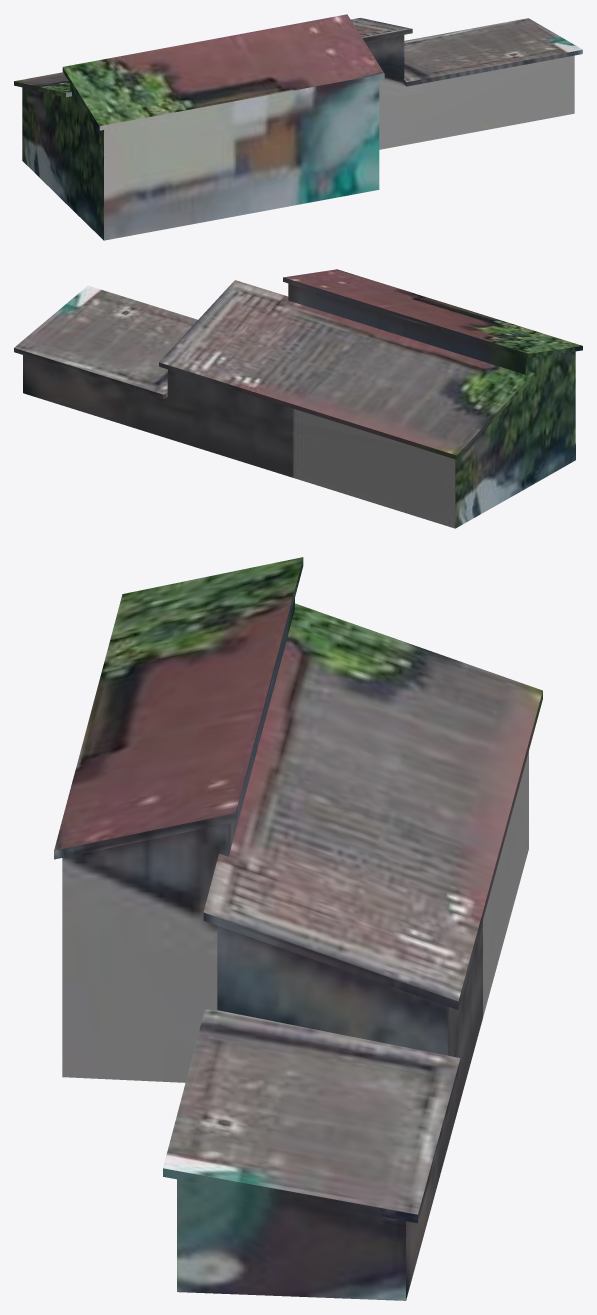
3 views of the same model, one above another, from view 1: azimuth 30°, elevation 25°; view 2: azimuth 150°, elevation 25°; view 3: azimuth 270°, elevation 25° (orthographic). The views are drawn at different scales.
Parts seen in each view (by area): view 1: B287214046401062A0; view 2: B287214046401062A0; view 3: B287214046401062A0.
Boxes of the visible parts, x1,y1,x2,y2 form: B287214046401062A0: (14, 14, 582, 240); B287214046401062A0: (14, 269, 582, 528); B287214046401062A0: (54, 557, 542, 1300).
Bounding box in the file's own units: 12.79 × 3.4 × 5.47.
1 material, 1 textured.
